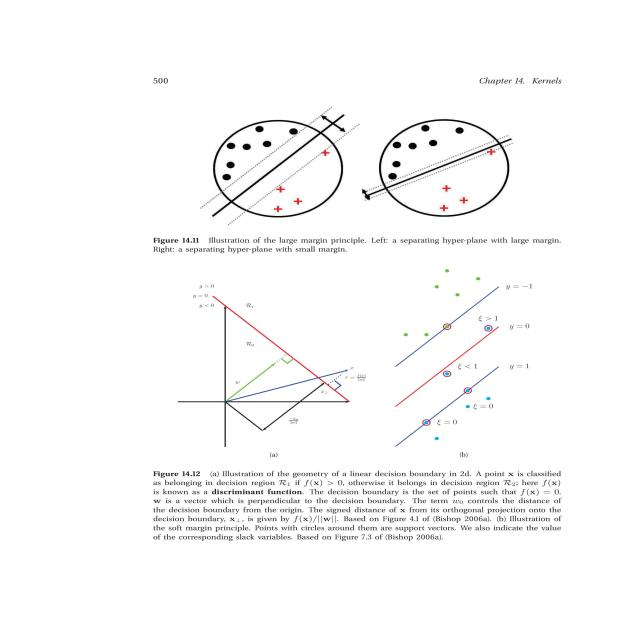diagram: (32, 101, 604, 576)
